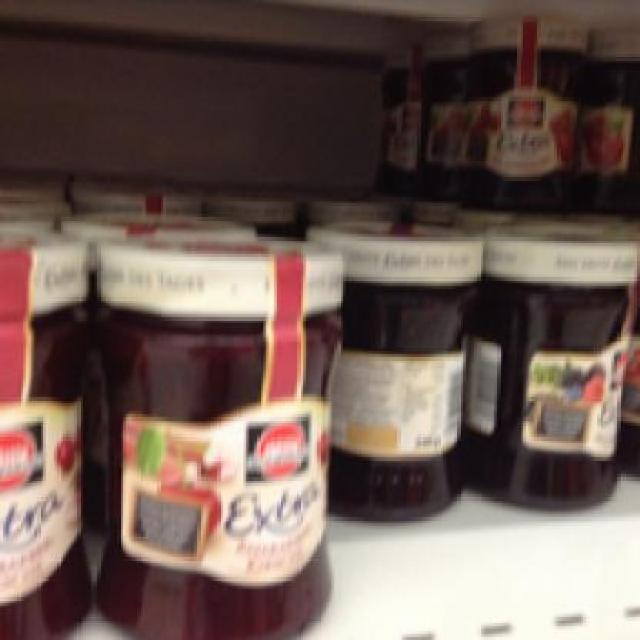Jam: (88, 232, 344, 638), (314, 220, 480, 523), (472, 226, 628, 508), (463, 8, 586, 215)
